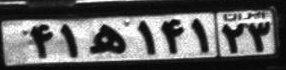character: (82, 21, 132, 56), (158, 18, 189, 56), (26, 23, 55, 60), (55, 21, 81, 60), (131, 19, 159, 55), (189, 17, 212, 55), (219, 21, 246, 53), (247, 19, 272, 53)
